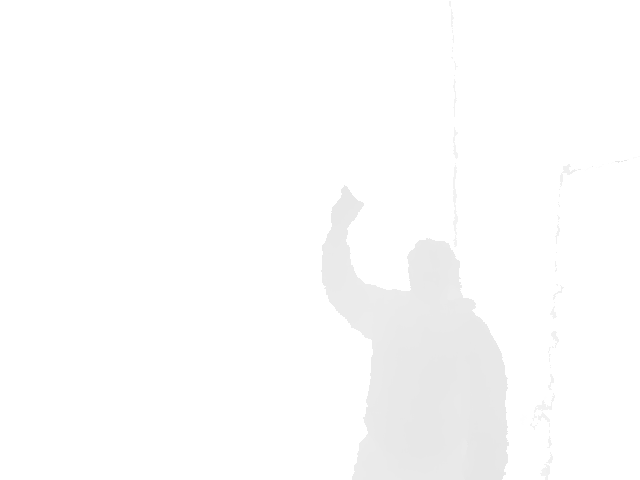hand: (329, 184, 365, 229)
head: (406, 237, 462, 295)
person: (322, 184, 512, 480)
